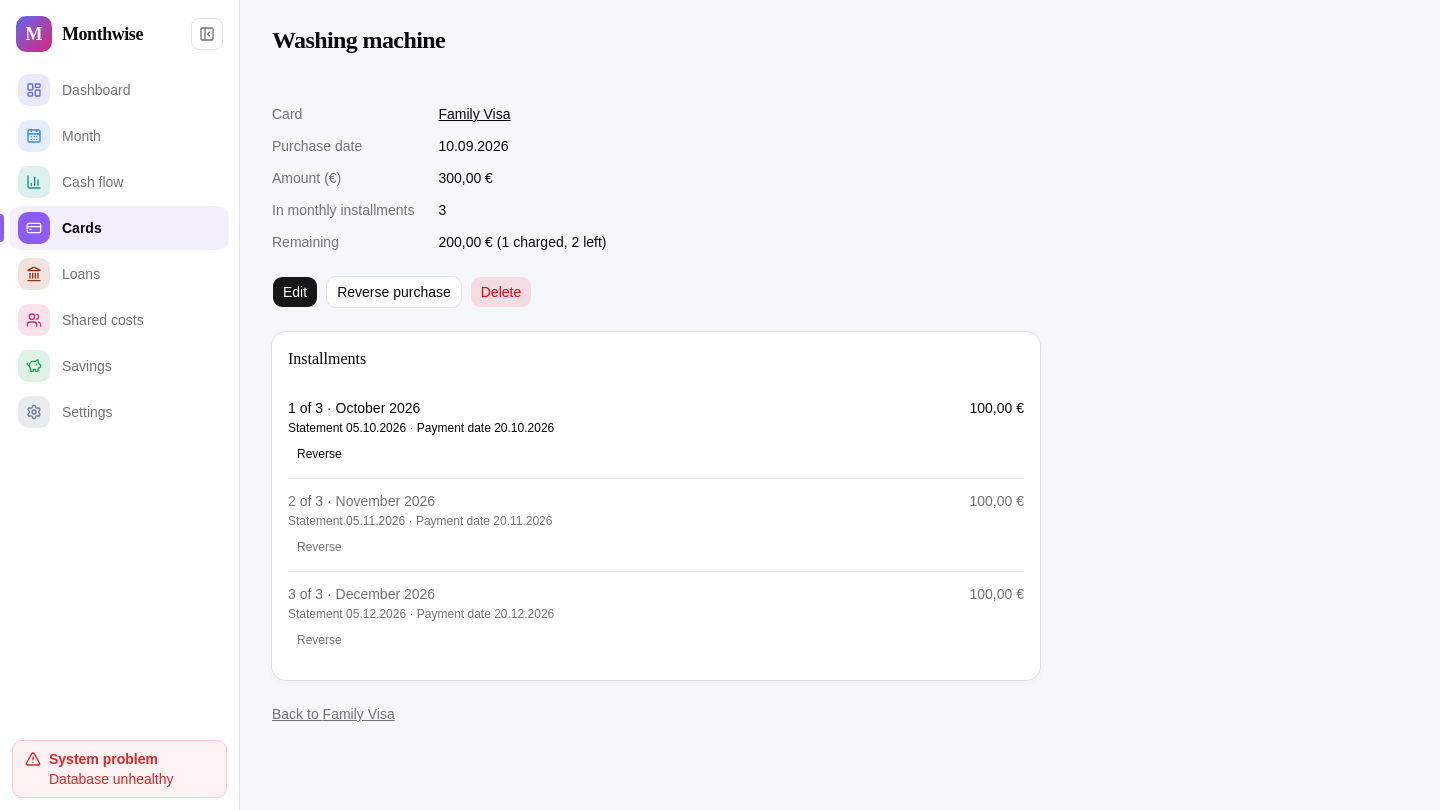
Test case: Purchase details › warns before deleting a purchase with charged installments
This screenshot has width=1440, height=810.
Click the button "Delete": [501, 292] box x1=470 y1=276 x2=532 y2=308
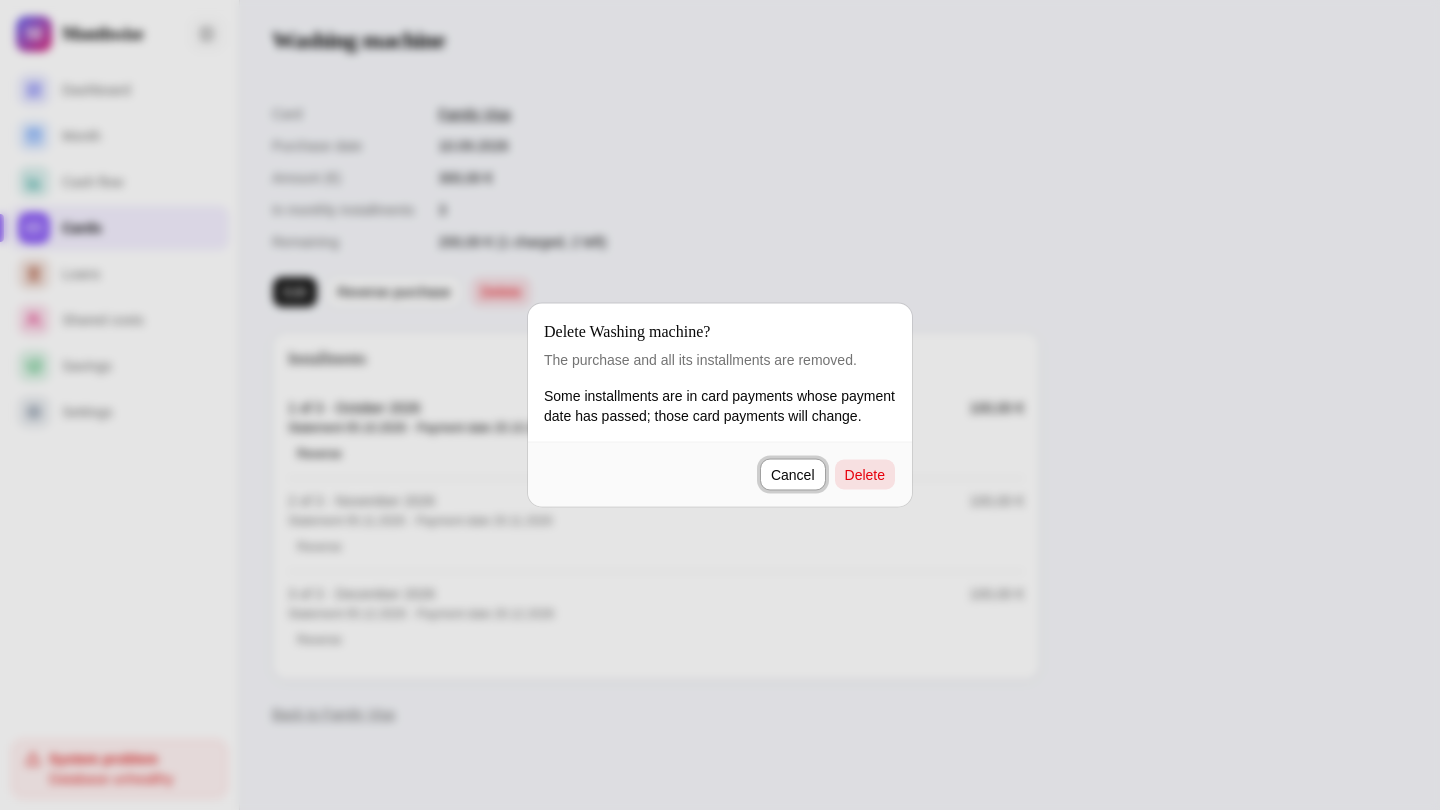
Now the text "Some installments are in card payments whose payment date has passed; those card payments will change." is shown, box x1=544 y1=388 x2=895 y2=424
